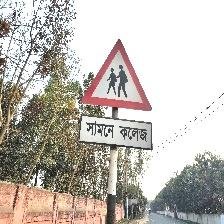College-in-front: (64, 30, 159, 167)
